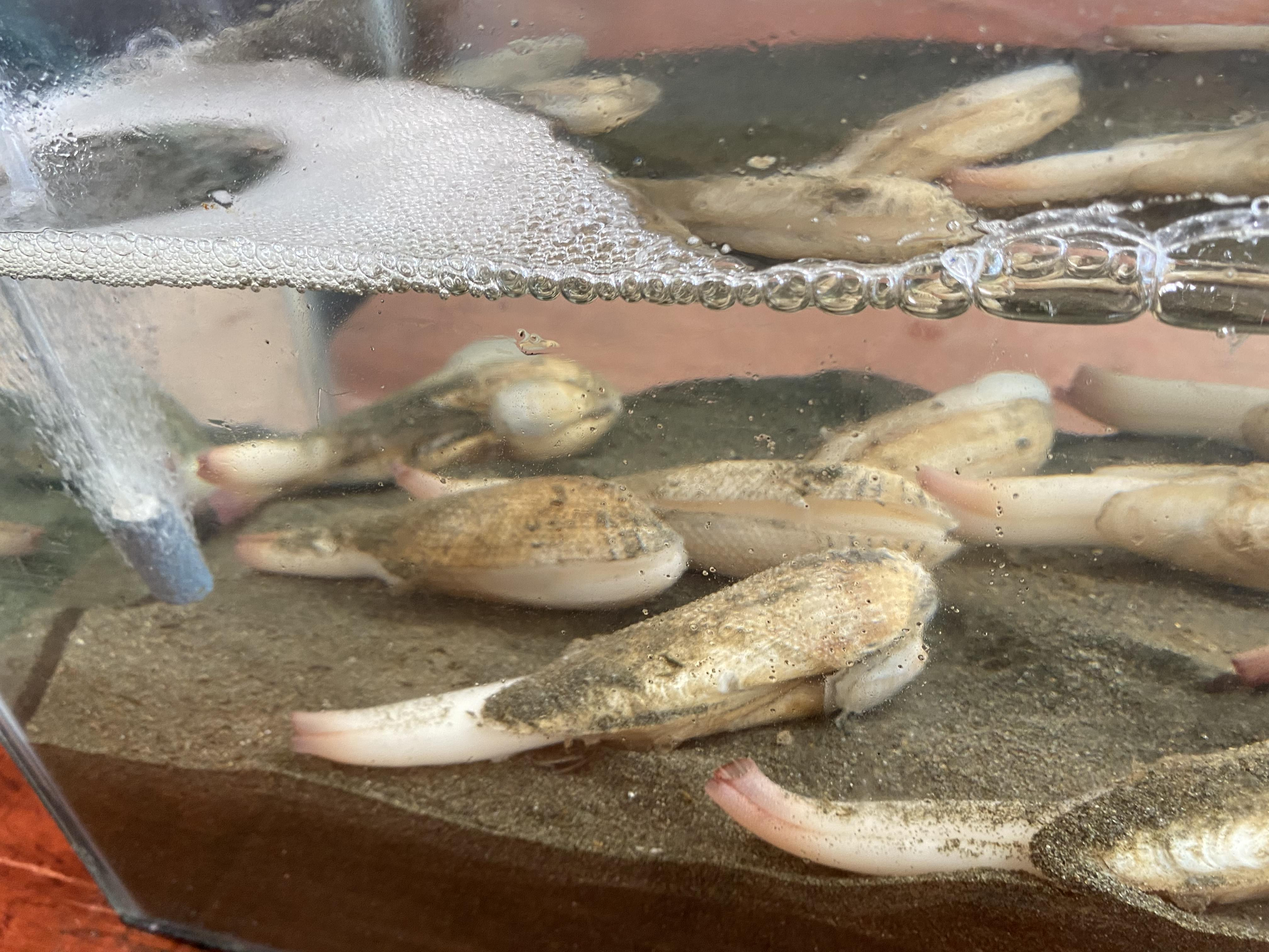Healthy: (293, 550, 936, 766), (707, 742, 1269, 910), (198, 338, 620, 494), (1097, 468, 1269, 590), (1063, 365, 1269, 453)
